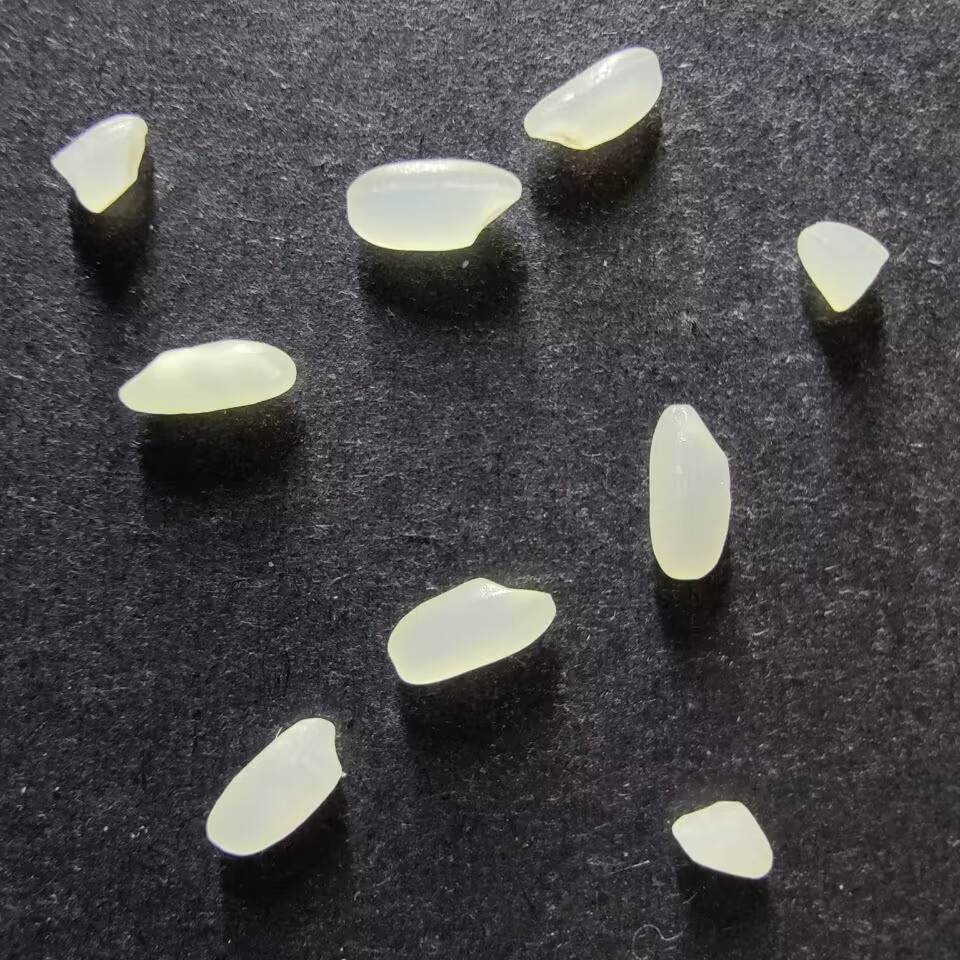broken: (49, 113, 147, 214), (795, 220, 890, 312), (670, 799, 772, 880)
rice: (204, 718, 342, 856), (385, 576, 556, 685), (345, 158, 522, 250), (647, 403, 731, 579), (522, 46, 662, 150), (116, 338, 297, 415)
